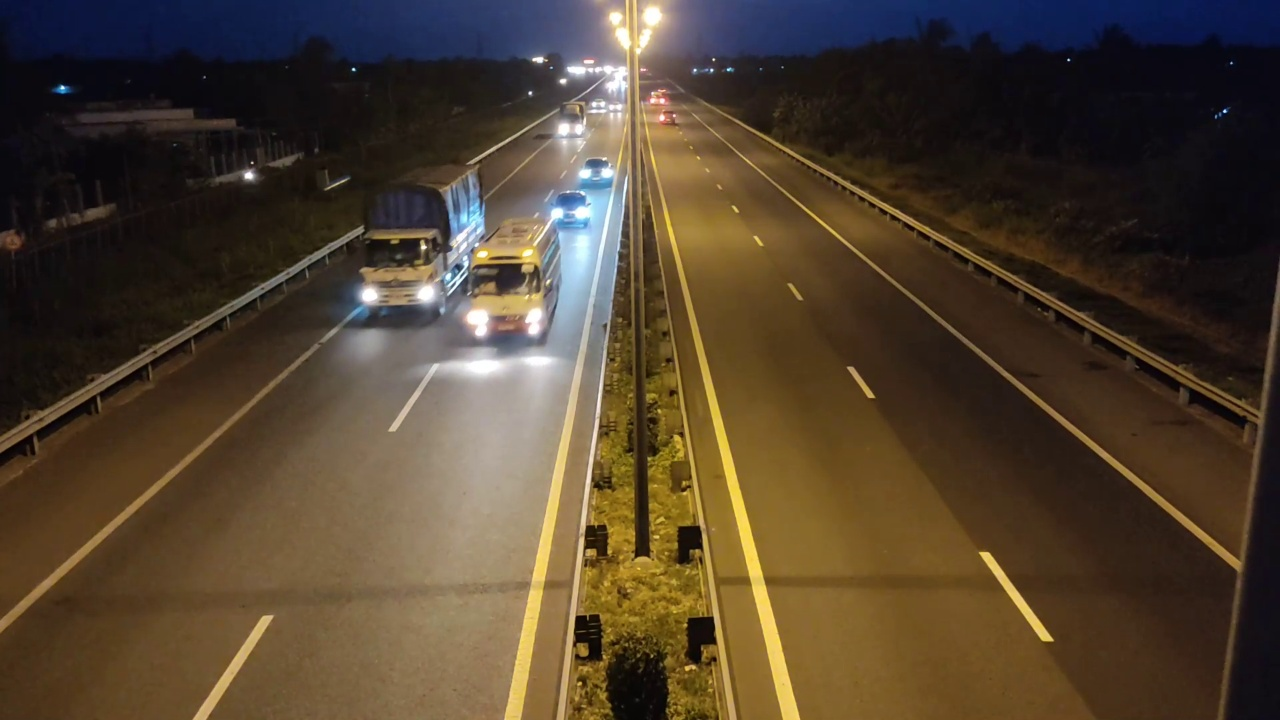bus: (459, 219, 562, 347)
car: (545, 189, 591, 228), (577, 157, 615, 187)
truck: (357, 161, 489, 326)
